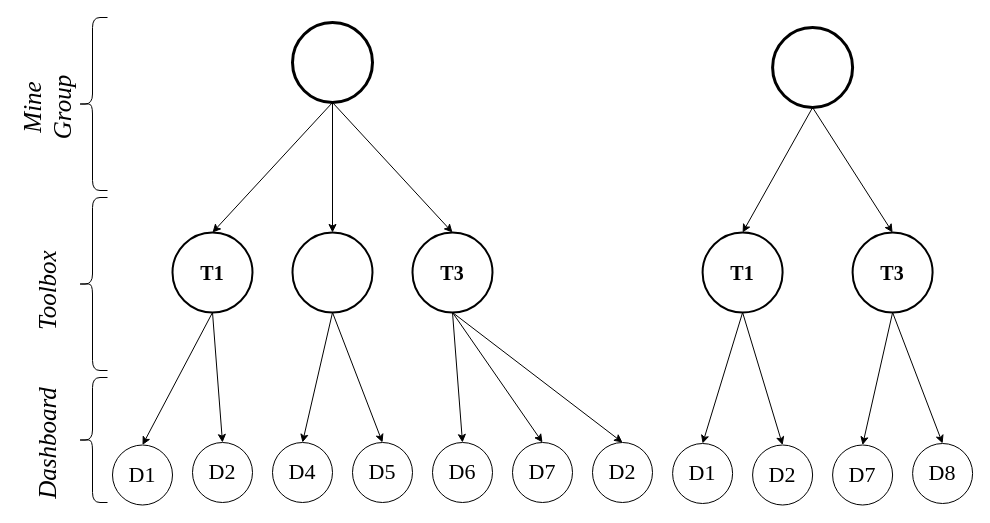
This 990x523 diagram has some shape labels left out. Each missing label, with the centre of its shape:
Mine 1: the point at 332,62
Mine 2: the point at 812,67
T2: the point at 332,272
